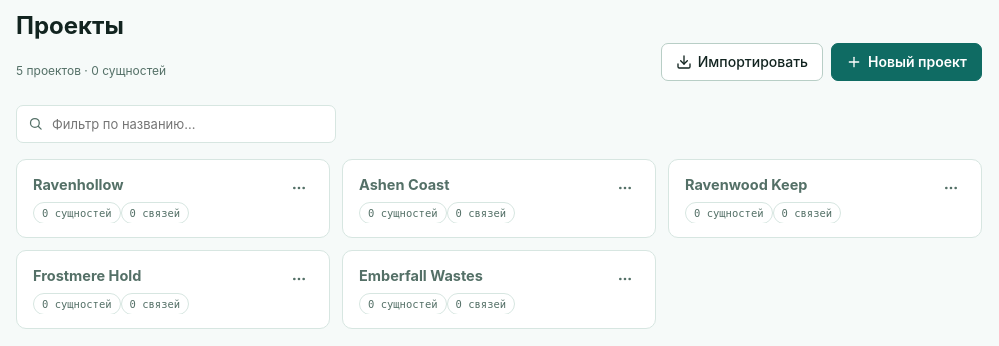
ProjectListPage › filters the grid by name once there are enough projects to show the filter
Type "raven" into the field with placeholder "Фильтр по названию…" at point(188, 124), box [52,114,324,134]
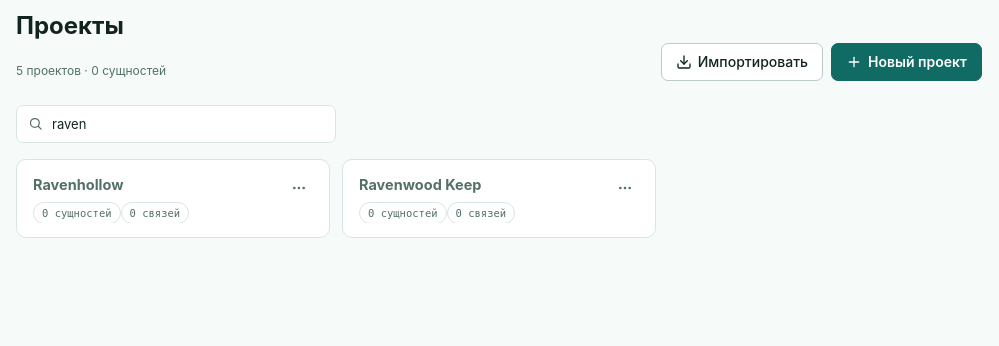
Expected: the heading "Ravenhollow" is shown, [33,176,124,193]
Expected: the link "Ashen Coast" is gone
Expected: the link "Frostmere Hold" is gone
